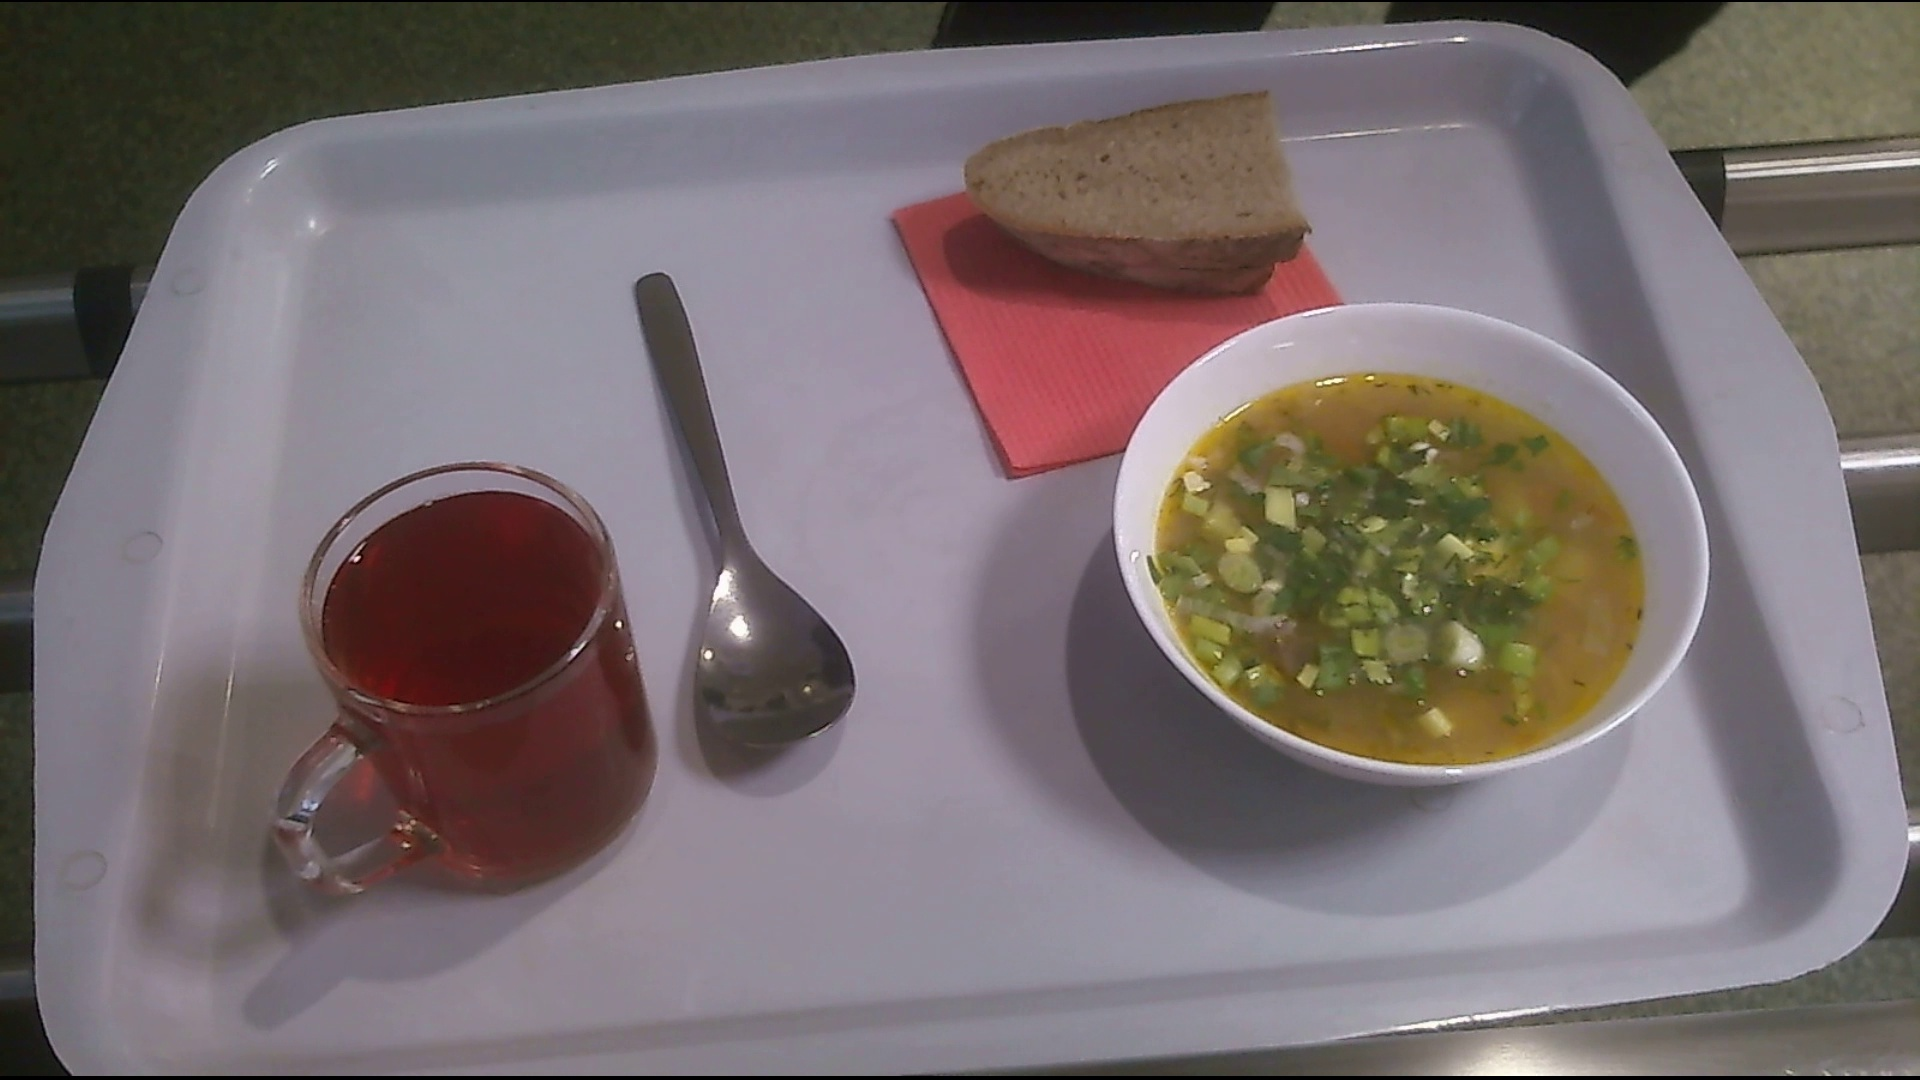bowl: (1108, 305, 1718, 795)
cutlery: (625, 264, 862, 769)
drink: (269, 460, 662, 932)
other: (965, 86, 1313, 305)
